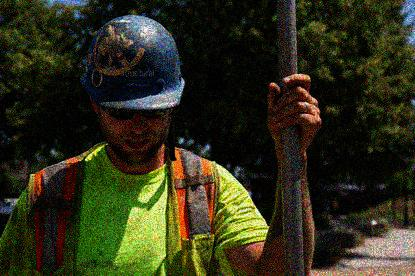helmet: (82, 13, 186, 162)
